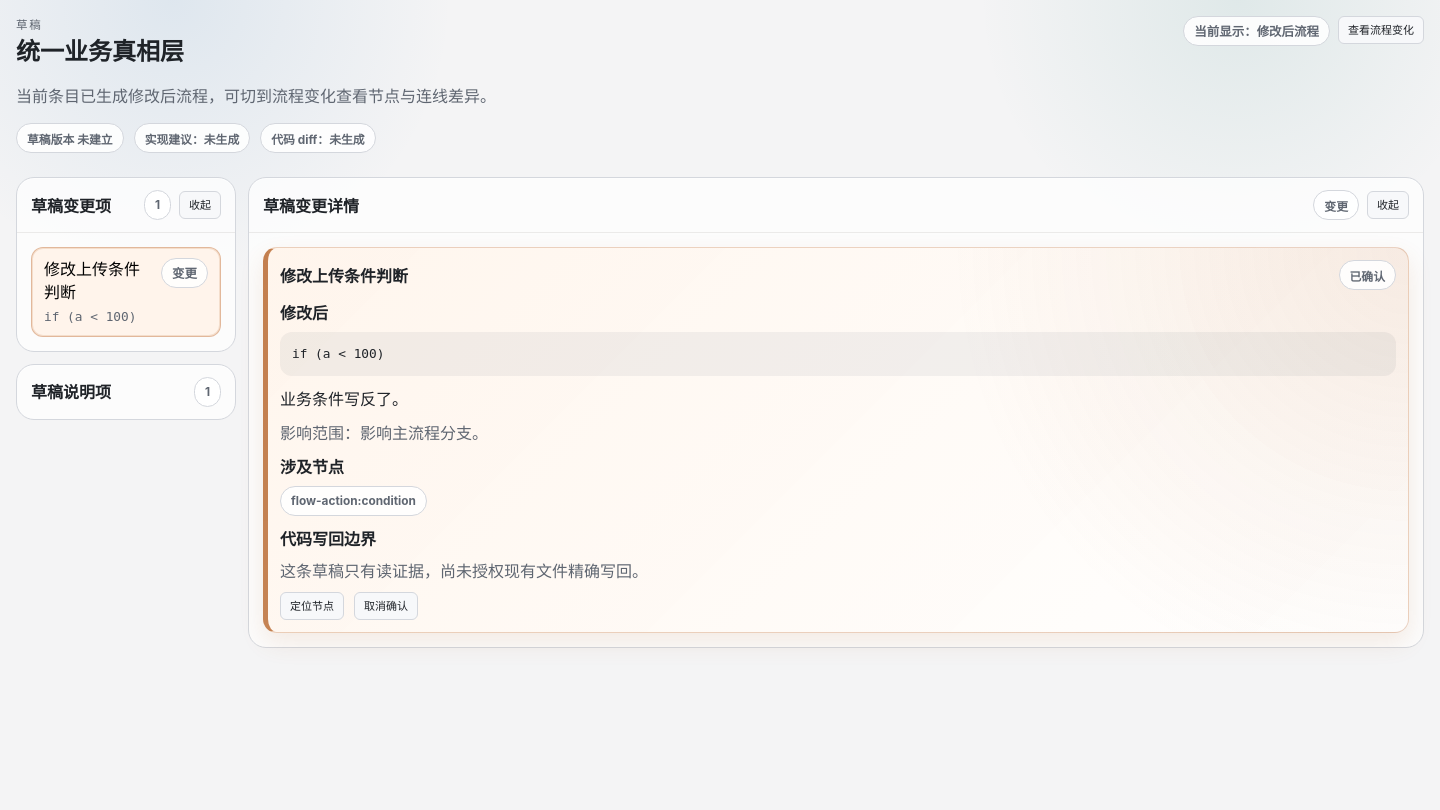
Test: DraftTab › renders draft changes above draft notes
Check: the heading "草稿变更项" is shown, box [31,193,111,217]
Check: the button with aria-label "草稿条目：修改上传条件判断" is shown, box [31,247,221,337]
Click the button "草稿说明项": (106, 392) [31,382,182,403]
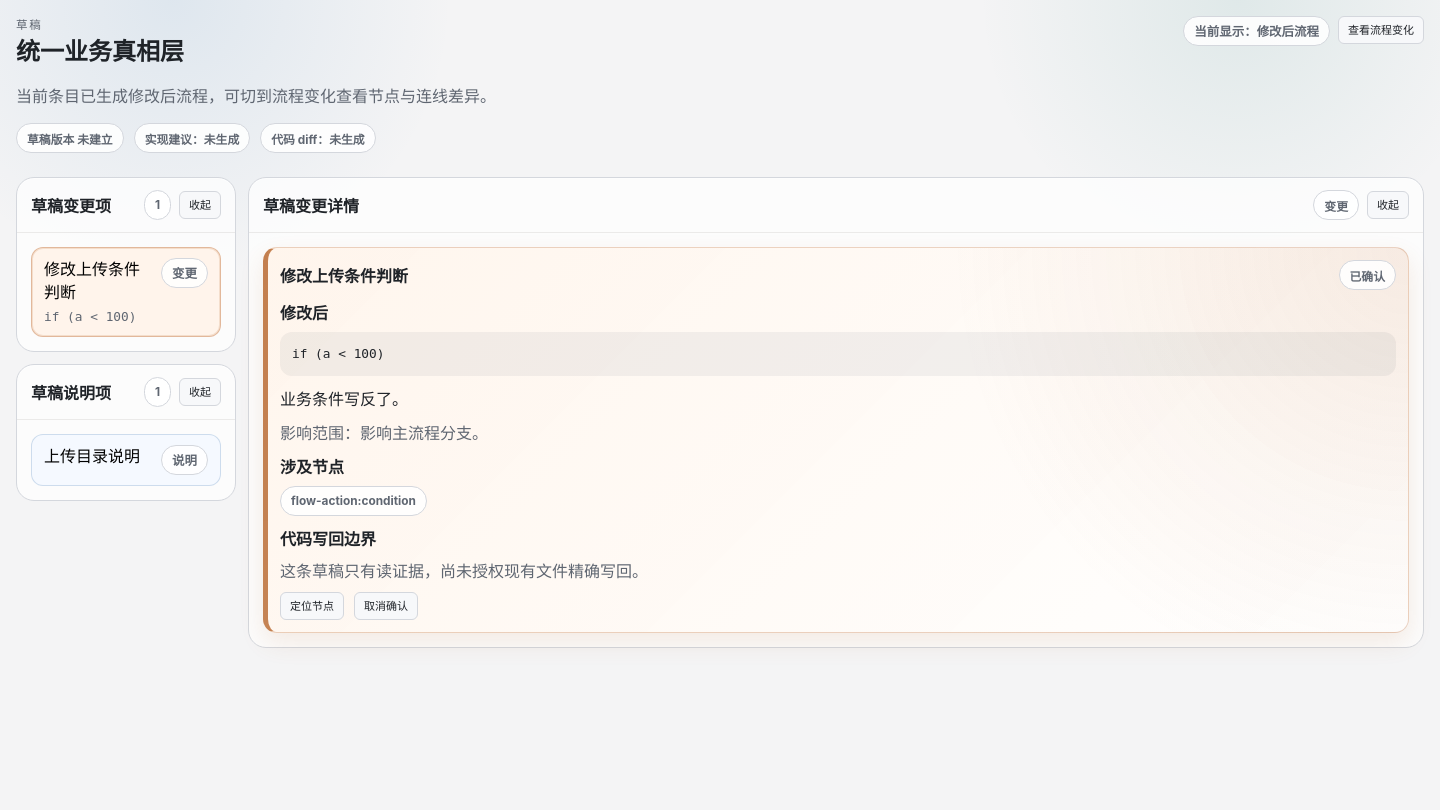
Check: the element with class "draft-layout" is shown, box [16,177,1424,648]
Check: the button with aria-label "草稿条目：上传目录说明" is shown, box [31,434,221,486]
